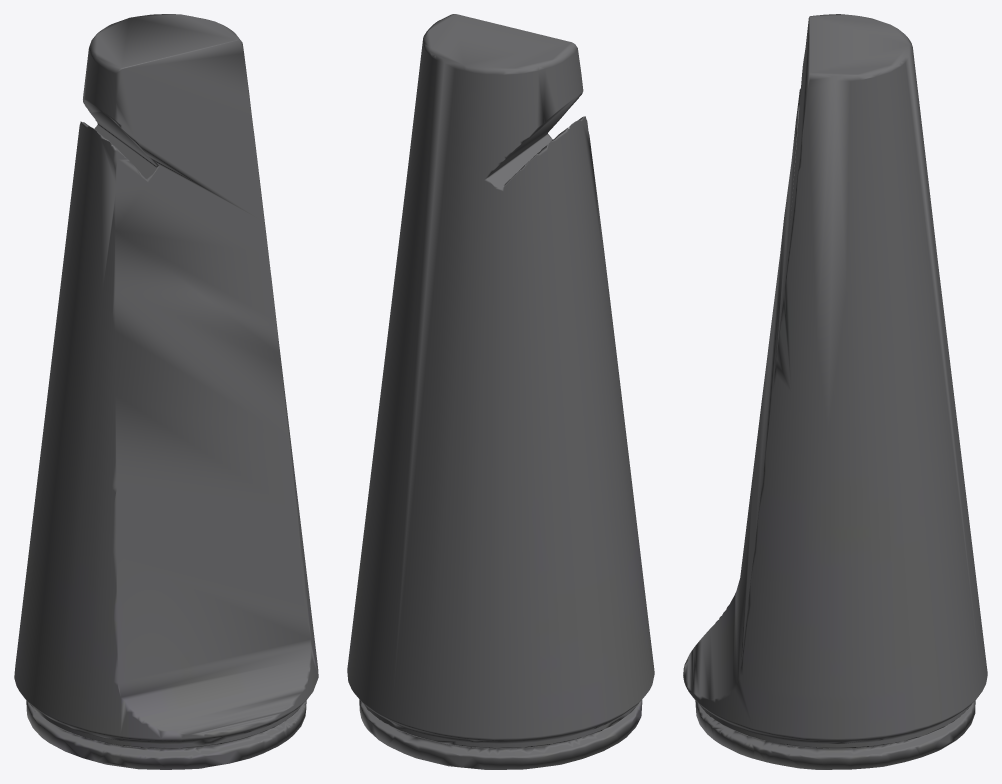
Rendered from 03_strelec_cerna.glb.
3 renders of one model, left to right at view 1: azimuth 30°, elevation 25°; view 2: azimuth 150°, elevation 25°; view 3: azimuth 270°, elevation 25°, orthographic.
Visible parts, largest first — view 1: 03_strelec_cerna; view 2: 03_strelec_cerna; view 3: 03_strelec_cerna.
Boxes of the visible parts, box(x1,y1,x2,y2) form: 03_strelec_cerna: box(14, 14, 318, 769); 03_strelec_cerna: box(347, 14, 654, 769); 03_strelec_cerna: box(683, 14, 987, 769).
Bounding box in the file's own units: 0.0332 × 0.0803 × 0.0332.
Materials: 1 (1 with a texture image).
